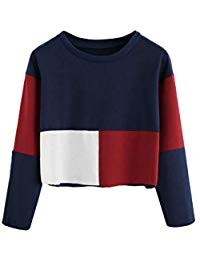tshirt: (1, 30, 195, 234)
